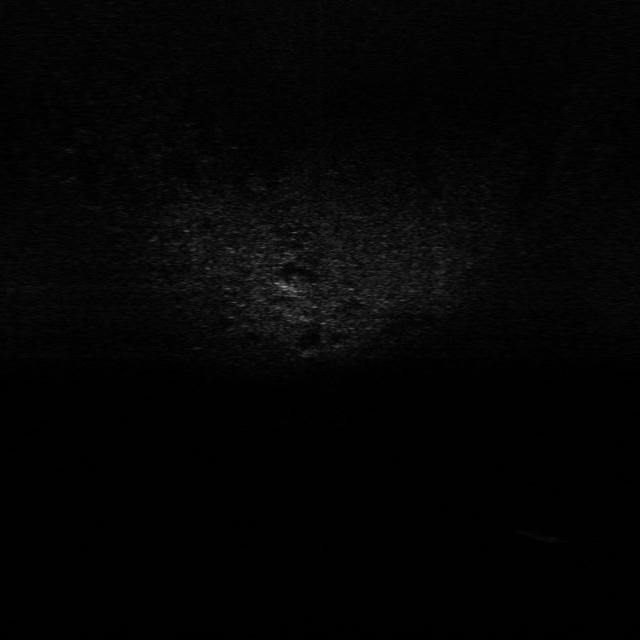cylinder: (509, 520, 573, 547)
